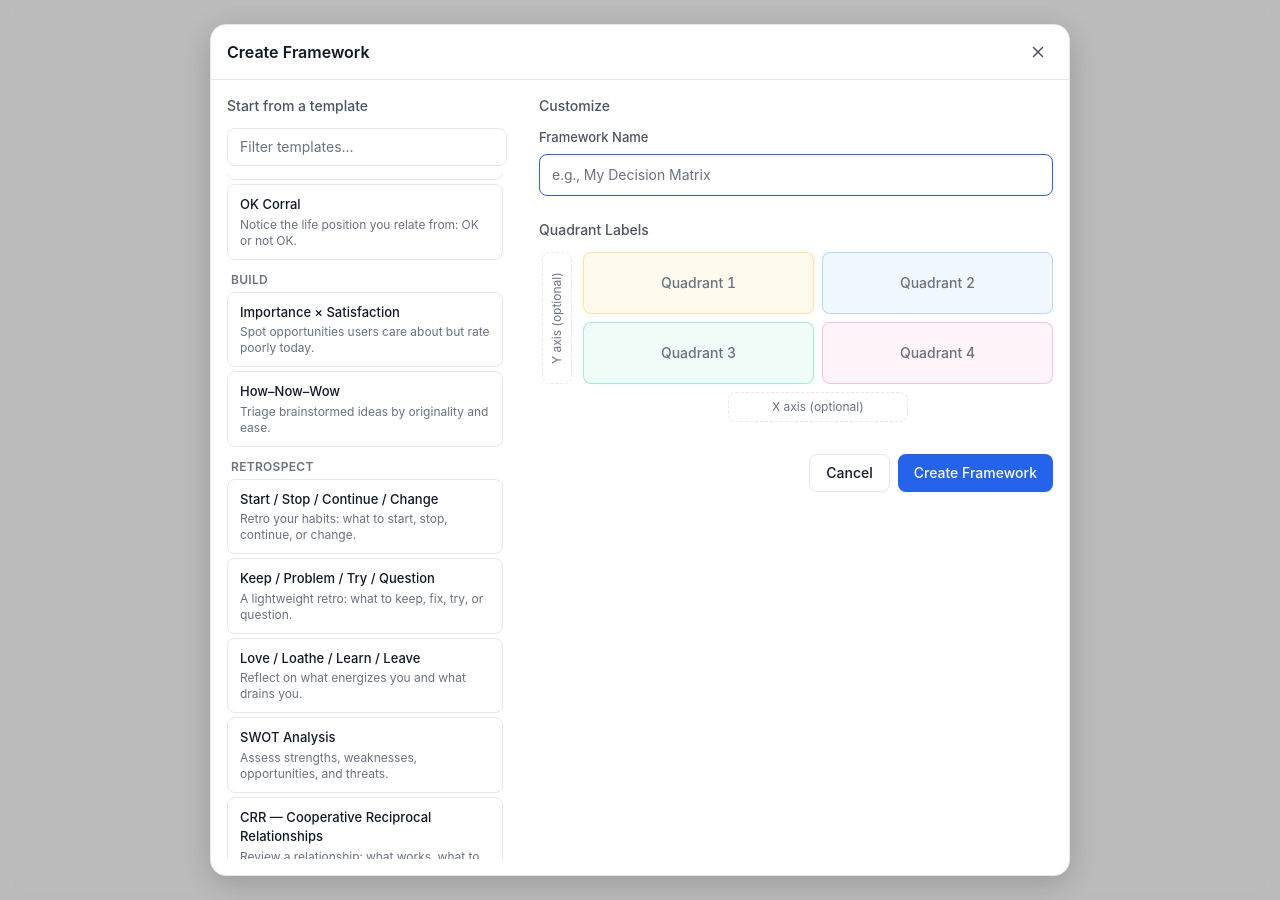
FrameworkBuilderModal › enables submit when a template is selected
(page scrolled)
What coordinates should you click on to do the following:
click the button "Start / Stop"
I would click on:
 (365, 516)
Its box is [227,478,503,554].
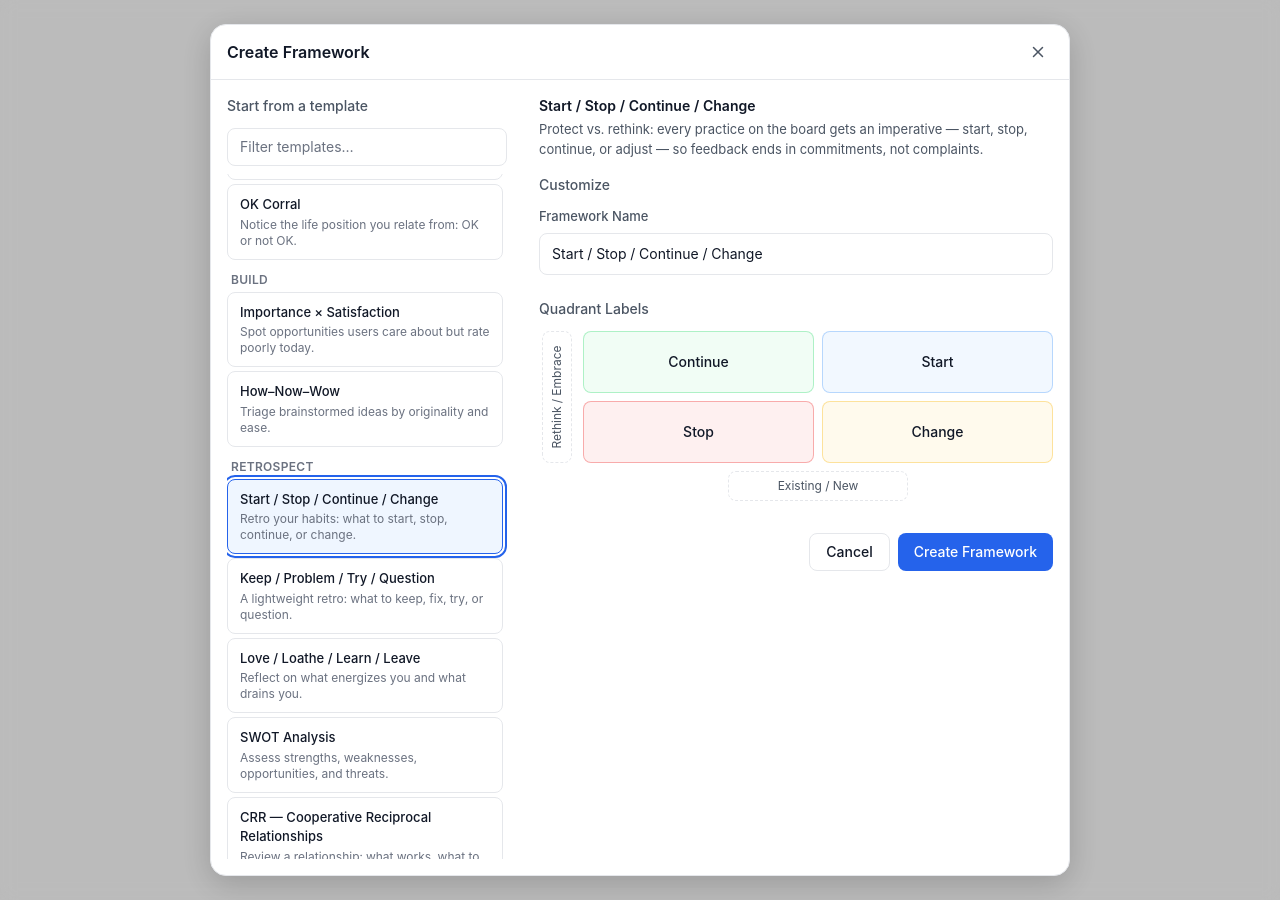
Result: the button "Create Framework" is enabled at [898,532,1053,570]
